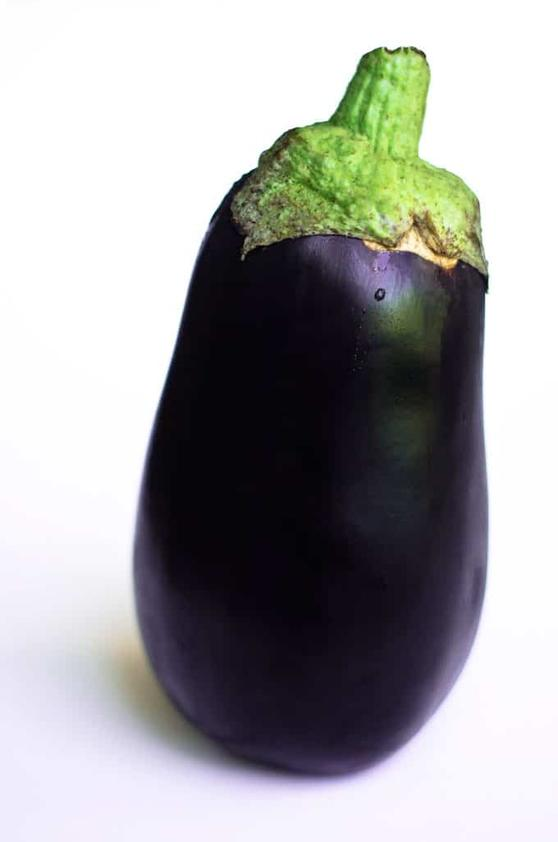eggplant: (130, 105, 489, 777)
